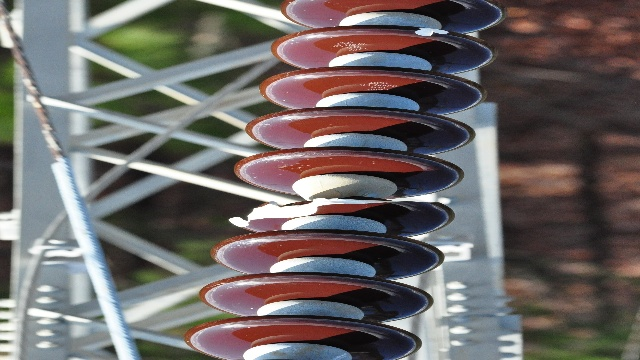broken_local: (229, 198, 443, 229)
insulator_unspecified: (186, 0, 503, 358)
